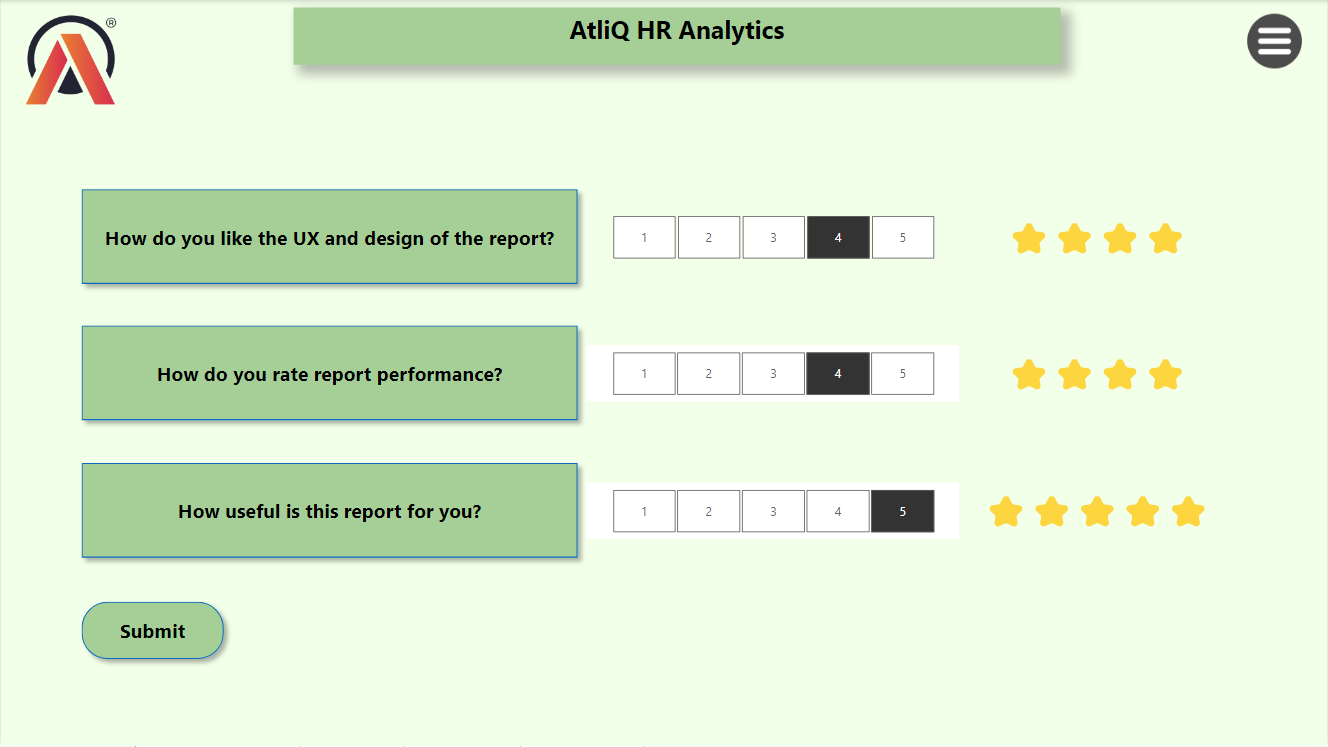

This screenshot's page, from the dashboard's own definition file:
{"tool":"powerbi","page":{"name":"Feedback","canvas":[1280,720],"ordinal":2},"visuals":[{"type":"slicer","fields":{"Values":["Answer 1.Answer 1"]},"box":[564.8,201.1,360,54.6],"z":0},{"type":"card","fields":{"Values":["Measure Table.Answer 1 stars"]},"box":[924.8,192.4,265.6,72],"z":1000},{"type":"textbox","box":[282,7,740,55],"z":2000},{"type":"image","box":[18.6,7.1,100,100],"z":3000},{"type":"image","box":[1190,8.6,77.1,62.9],"z":4000},{"type":"shape","box":[68.3,173.8,496.5,109.2],"z":6000},{"type":"shape","box":[68.3,305.4,496.5,109.2],"z":7000},{"type":"shape","box":[68.3,438.2,496.5,109.2],"z":8000},{"type":"shape","box":[68.3,572.2,155.2,73.2],"z":9000},{"type":"slicer","fields":{"Values":["Answer 2.Answer 2"]},"box":[564.8,332.7,360,54.6],"z":10000},{"type":"slicer","fields":{"Values":["Answer 3.Answer 3"]},"box":[564.8,465.5,360,54.6],"z":11000},{"type":"card","fields":{"Values":["Measure Table.Answer 2 stars"]},"box":[924.8,325.2,265.6,70.8],"z":12000},{"type":"card","fields":{"Values":["Measure Table.Answer 3 stars"]},"box":[924.8,456.8,265.6,70.8],"z":13000}]}

Visuals, with their boxes in screenshot pixels (x1, y1, x2, y2), scaled from the page's 1280x720 canvas onto the 1328x747 screenshot:
slicer - Answer 1.Answer 1: bbox=(586, 209, 959, 265)
card - Measure Table.Answer 1 stars: bbox=(959, 200, 1235, 274)
textbox: bbox=(293, 7, 1060, 64)
image: bbox=(19, 7, 123, 111)
image: bbox=(1235, 9, 1315, 74)
shape: bbox=(71, 180, 586, 294)
shape: bbox=(71, 317, 586, 430)
shape: bbox=(71, 455, 586, 568)
shape: bbox=(71, 594, 232, 670)
slicer - Answer 2.Answer 2: bbox=(586, 345, 959, 402)
slicer - Answer 3.Answer 3: bbox=(586, 483, 959, 540)
card - Measure Table.Answer 2 stars: bbox=(959, 337, 1235, 411)
card - Measure Table.Answer 3 stars: bbox=(959, 474, 1235, 547)
